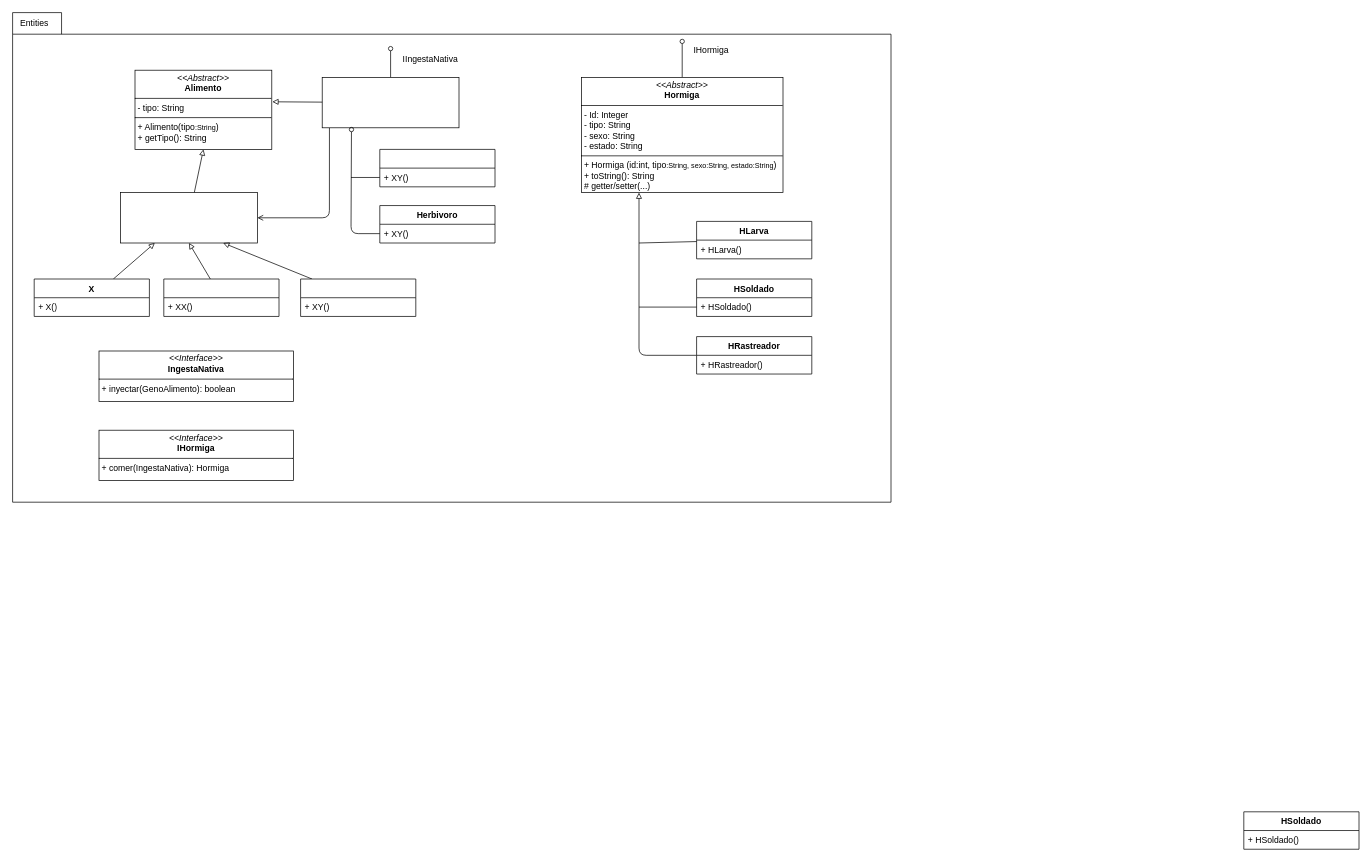
The diagram is 1372 pixels wide and 864 high, and some of its shapes have lost their labels. Here are the shapes that lost their labels. From the top down, the box of each, then its label:
(321, 77, 459, 128): <<Abstract>> IngestaNativa + IngestaNativa(tipo:String)
(379, 149, 495, 187): Canivoro
(120, 192, 257, 243): <<Abstract>> GenoAlimento + GenoAlimento(tipo:String)
(163, 278, 279, 316): XX
(300, 278, 416, 316): XY
